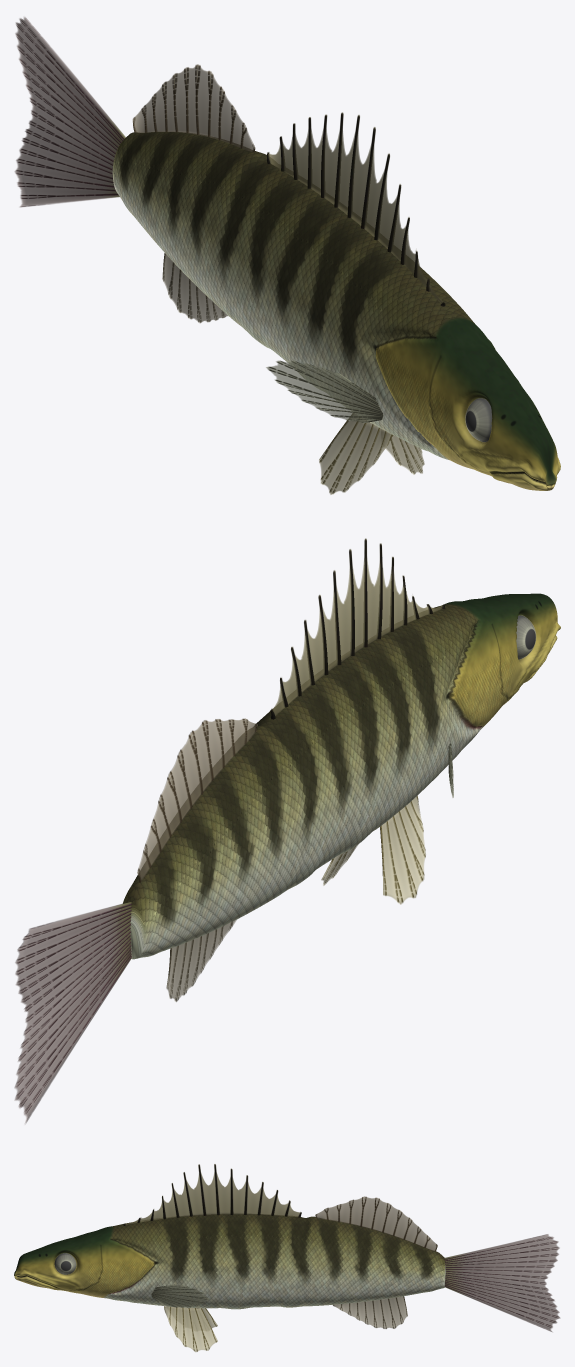
The model's file is sandacz.glb.
3 renders of one model, top to bottom at view 1: azimuth 30°, elevation 25°; view 2: azimuth 150°, elevation 25°; view 3: azimuth 270°, elevation 25°, orthographic. The views are drawn at different scales.
Visible parts, largest first — view 1: Body, FinCaudal, FinDorsal1, FinDorsal2, FinPelvic, FinPectoral, FinAnal, EyeLeft, CorneaLeft; view 2: Body, FinCaudal, FinDorsal1, FinDorsal2, FinPelvic, FinAnal; view 3: Body, FinCaudal, FinDorsal1, FinDorsal2, FinPelvic, FinAnal, FinPectoral, EyeRight, CorneaRight.
Part boxes in pixels (x1=…): Body: x1=112, y1=132, x2=560, y2=490; FinCaudal: x1=14, y1=17, x2=125, y2=207; FinDorsal1: x1=267, y1=112, x2=445, y2=306; FinDorsal2: x1=132, y1=64, x2=255, y2=152; FinPelvic: x1=319, y1=413, x2=424, y2=494; FinPectoral: x1=266, y1=360, x2=383, y2=423; FinAnal: x1=162, y1=253, x2=227, y2=323; EyeLeft: x1=465, y1=398, x2=492, y2=441; CorneaLeft: x1=465, y1=398, x2=491, y2=441; Body: x1=123, y1=593, x2=560, y2=959; FinCaudal: x1=14, y1=901, x2=131, y2=1123; FinDorsal1: x1=270, y1=538, x2=445, y2=719; FinDorsal2: x1=137, y1=718, x2=257, y2=882; FinPelvic: x1=321, y1=796, x2=425, y2=904; FinAnal: x1=166, y1=920, x2=236, y2=1001; Body: x1=14, y1=1214, x2=445, y2=1309; FinCaudal: x1=444, y1=1234, x2=560, y2=1331; FinDorsal1: x1=123, y1=1164, x2=301, y2=1225; FinDorsal2: x1=315, y1=1196, x2=437, y2=1251; FinPelvic: x1=164, y1=1306, x2=217, y2=1352; FinAnal: x1=333, y1=1296, x2=407, y2=1328; FinPectoral: x1=151, y1=1284, x2=208, y2=1307; EyeRight: x1=54, y1=1253, x2=76, y2=1274; CorneaRight: x1=55, y1=1253, x2=76, y2=1274.
Bounding box in the file's own units: 0.2004 × 0.3768 × 1.
Materials: 9 (8 with a texture image).
